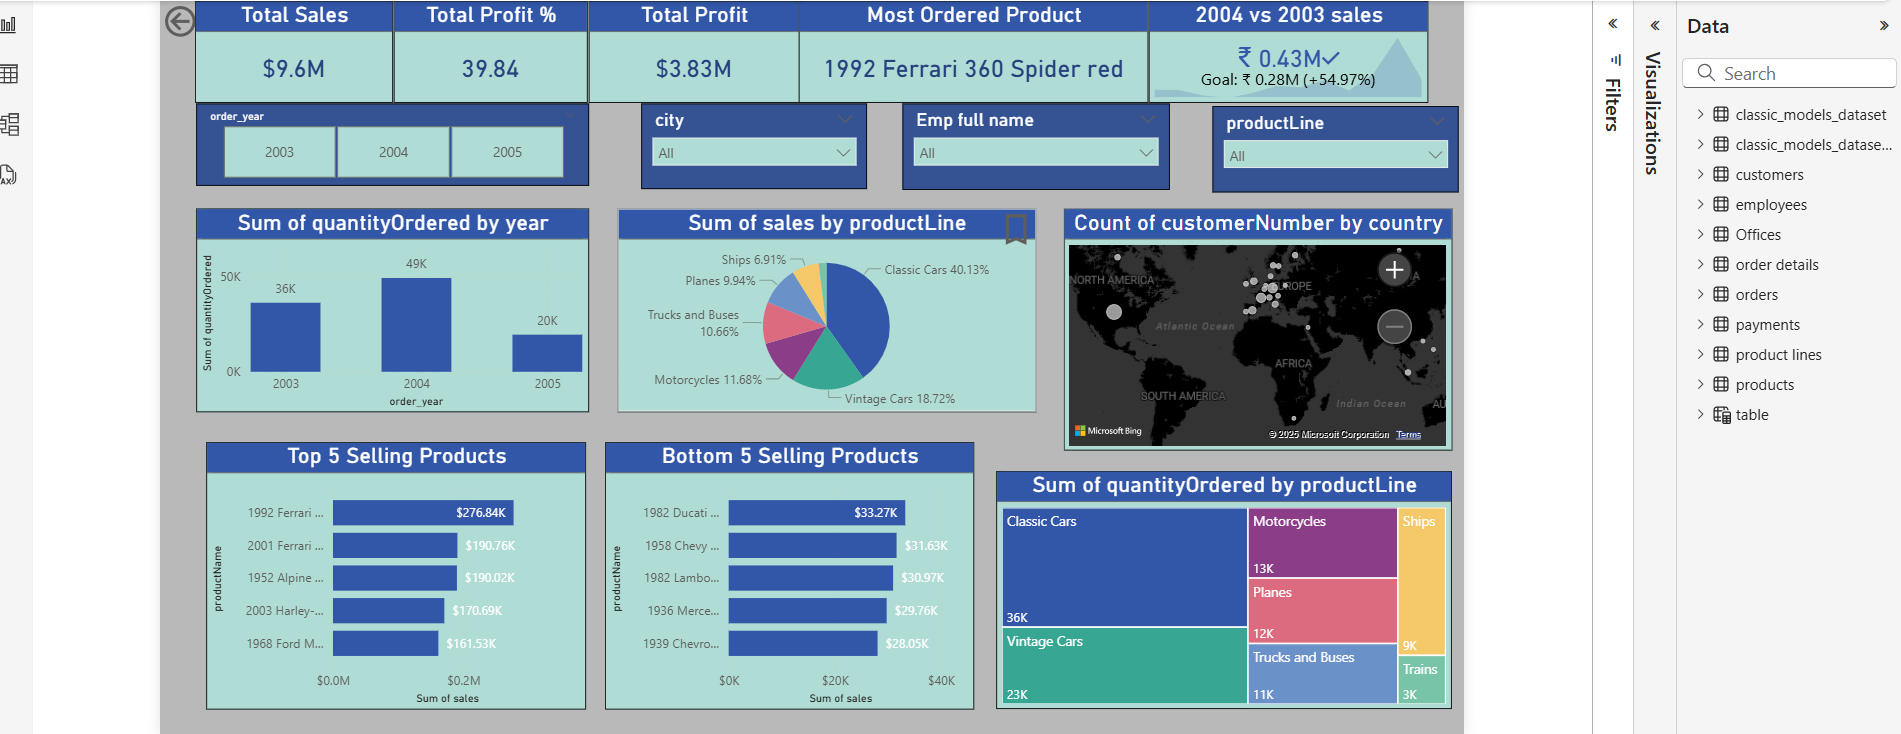

The dashboard page shown, as its layout file describes it:
{"tool":"powerbi","page":{"name":"Page 1","canvas":[1280,720],"ordinal":0},"visuals":[{"type":"actionButton","box":[0,0,100,40],"z":0},{"type":"barChart","title":"Bottom 5 Selling Products","fields":{"Category":["products.productName"],"Y":["order details.sales"]},"box":[436.7,432.6,362.3,262.3],"z":1000},{"type":"card","title":"Total Profit","fields":{"Values":["order details.total_profit"]},"box":[420.4,0,206.8,100],"z":2000},{"type":"card","title":"Most Ordered Product","fields":{"Values":["table.Most Ordered Product"]},"box":[626.8,0,343.4,100],"z":3000},{"type":"pieChart","fields":{"Category":["products.productLine"],"Y":["order details.sales"]},"box":[448.8,204.1,411,200.1],"z":4000},{"type":"slicer","title":"Order Year","fields":{"Values":["orders.order_year"]},"box":[35.2,100,385.3,81.1],"z":5000},{"type":"kpi","title":"2004 vs 2003 sales ","fields":{"Goal":["orders.sales_2003"],"Indicator":["orders.sales_2004"],"TrendLine":["orders.month_num"]},"box":[970.4,0,274.4,100],"z":6000},{"type":"map","fields":{"Size":["customers.customerNumber"],"Category":["customers.country"]},"box":[886.9,204.1,381.2,237.9],"z":7000},{"type":"treemap","fields":{"Group":["product lines.productLine"],"Values":["order details.quantityOrdered"]},"box":[820.6,461,447.5,233.9],"z":8000},{"type":"columnChart","title":"Sum of quantityOrdered by year","fields":{"Category":["orders.order_year"],"Y":["order details.quantityOrdered"]},"box":[35.2,204.1,385.3,200.1],"z":9000},{"type":"card","title":"Total Profit %","fields":{"Values":["order details.profit_percent"]},"box":[229.8,0,190.6,100],"z":10000},{"type":"card","title":"Total Sales","fields":{"Values":["order details.sales"]},"box":[33.8,0,194.7,100],"z":11000},{"type":"slicer","title":"City","fields":{"Values":["Offices.city"]},"box":[471.8,100,221.7,83.8],"z":12000},{"type":"slicer","title":"Emp Fullname","fields":{"Values":["employees.Emp full name"]},"box":[728.7,100,262.3,85.2],"z":13000},{"type":"slicer","title":"Product Line","fields":{"Values":["products.productLine"]},"box":[1033.7,102.5,242,85.2],"z":14000},{"type":"barChart","title":"Top 5 Selling Products","fields":{"Category":["products.productName"],"Y":["order details.sales"]},"box":[45.2,433.2,373.1,262.3],"z":15000},{"type":"actionButton","box":[820.9,203.7,39.3,40.5],"z":16000}]}

Visuals, with their boxes on the page's 1280x720 design canvas (x1, y1, x2, y2). These are canvas units, not pixel positions in the 1901x734 screenshot, which may show the page scaled, cropped or inside an application window:
actionButton: (0, 0, 100, 40)
"Bottom 5 Selling Products" barChart: (437, 433, 799, 695)
"Total Profit" card: (420, 0, 627, 100)
"Most Ordered Product" card: (627, 0, 970, 100)
pieChart - products.productLine x order details.sales: (449, 204, 860, 404)
"Order Year" slicer: (35, 100, 420, 181)
"2004 vs 2003 sales " kpi: (970, 0, 1245, 100)
map - customers.customerNumber x customers.country: (887, 204, 1268, 442)
treemap - product lines.productLine x order details.quantityOrdered: (821, 461, 1268, 695)
"Sum of quantityOrdered by year" columnChart: (35, 204, 420, 404)
"Total Profit %" card: (230, 0, 420, 100)
"Total Sales" card: (34, 0, 228, 100)
"City" slicer: (472, 100, 694, 184)
"Emp Fullname" slicer: (729, 100, 991, 185)
"Product Line" slicer: (1034, 102, 1276, 188)
"Top 5 Selling Products" barChart: (45, 433, 418, 696)
actionButton: (821, 204, 860, 244)
